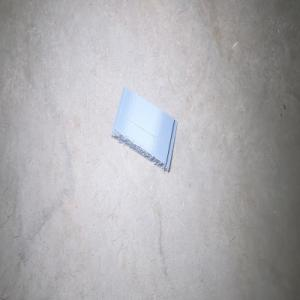PlasticPart: (110, 86, 177, 173)
